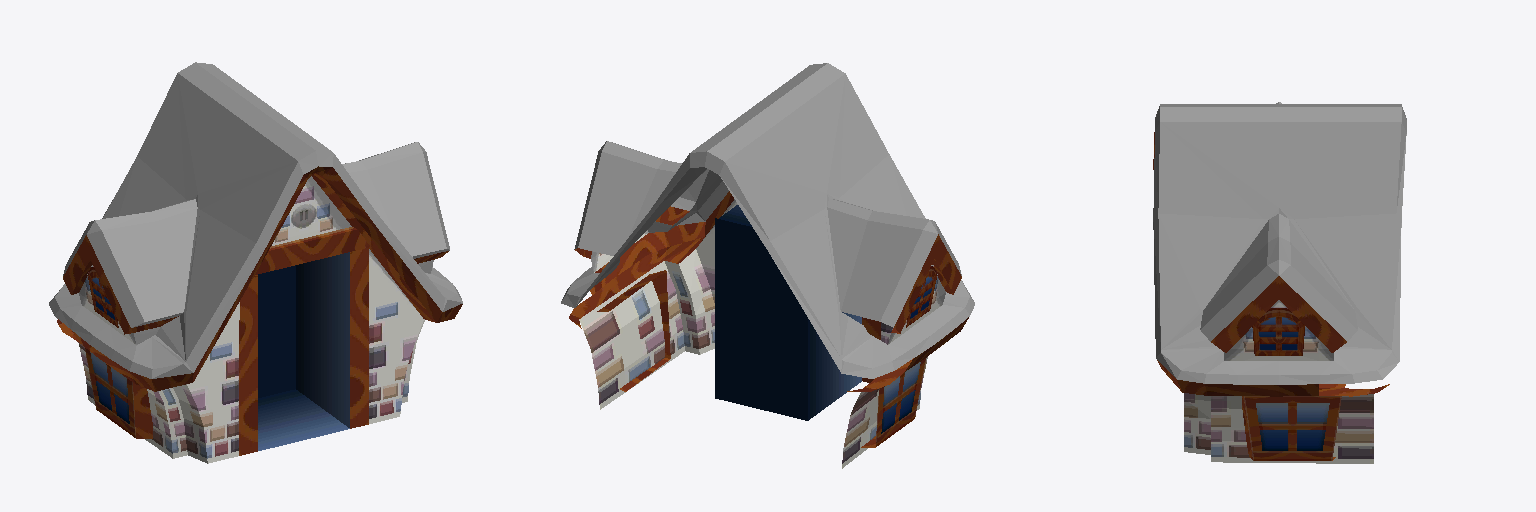
3 renders of one model, left to right at view 1: azimuth 30°, elevation 25°; view 2: azimuth 150°, elevation 25°; view 3: azimuth 270°, elevation 25°, orthographic.
Parts seen in each view (by area): view 1: vsn_mesh_0__mesh_0_.005, vsn_mesh_1__mesh_1_.005; view 2: vsn_mesh_1__mesh_1_.005, vsn_mesh_0__mesh_0_.005; view 3: vsn_mesh_1__mesh_1_.005, vsn_mesh_0__mesh_0_.005.
Part boxes in pixels (x1,y1,x2,y2): vsn_mesh_0__mesh_0_.005: (57,166,462,463); vsn_mesh_1__mesh_1_.005: (49,62,462,378); vsn_mesh_1__mesh_1_.005: (561,63,974,378); vsn_mesh_0__mesh_0_.005: (569,191,968,468); vsn_mesh_1__mesh_1_.005: (1153,102,1406,384); vsn_mesh_0__mesh_0_.005: (1153,132,1389,463).
Bounding box in the file's own units: 1.15 × 0.9675 × 0.745.
2 materials, 1 textured.